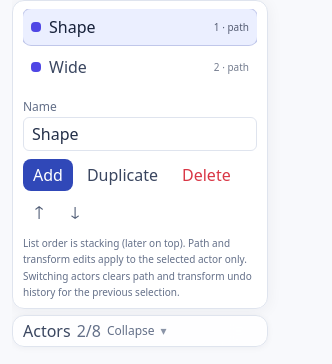
ActorList rename integration › does not apply a draft to another actor when selection changes
Clear the field with test id "actor-name-input" at (140, 134), box [23,117,257,151]
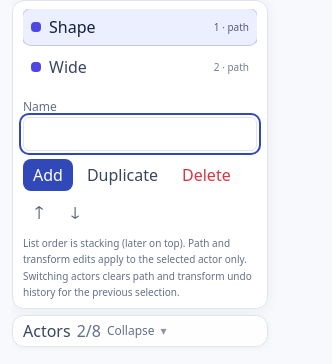
Type keys "Scratch"
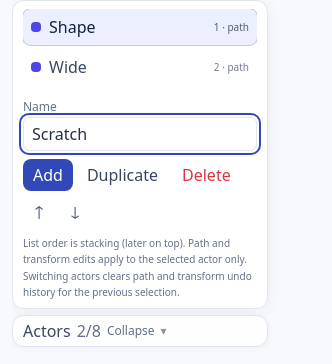
Click the option with test id "actor-list-item-a2" at (140, 67), box [23,49,257,85]
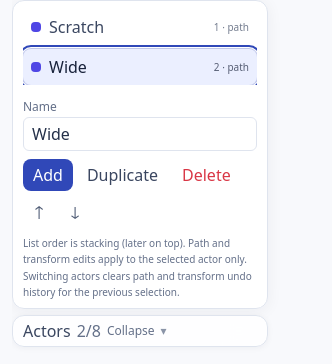
Expected: the text "Wide" is shown, [49,56,87,78]
Expected: the field with test id "actor-name-input" holds "Wide", [23,117,257,151]
Expected: the text "Scratch" is shown, [49,16,104,38]
